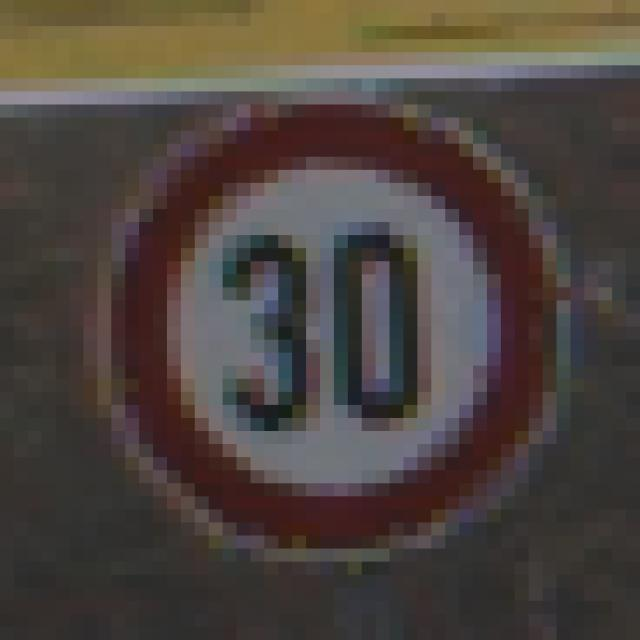Speed Limit -30-: (76, 59, 564, 568)
